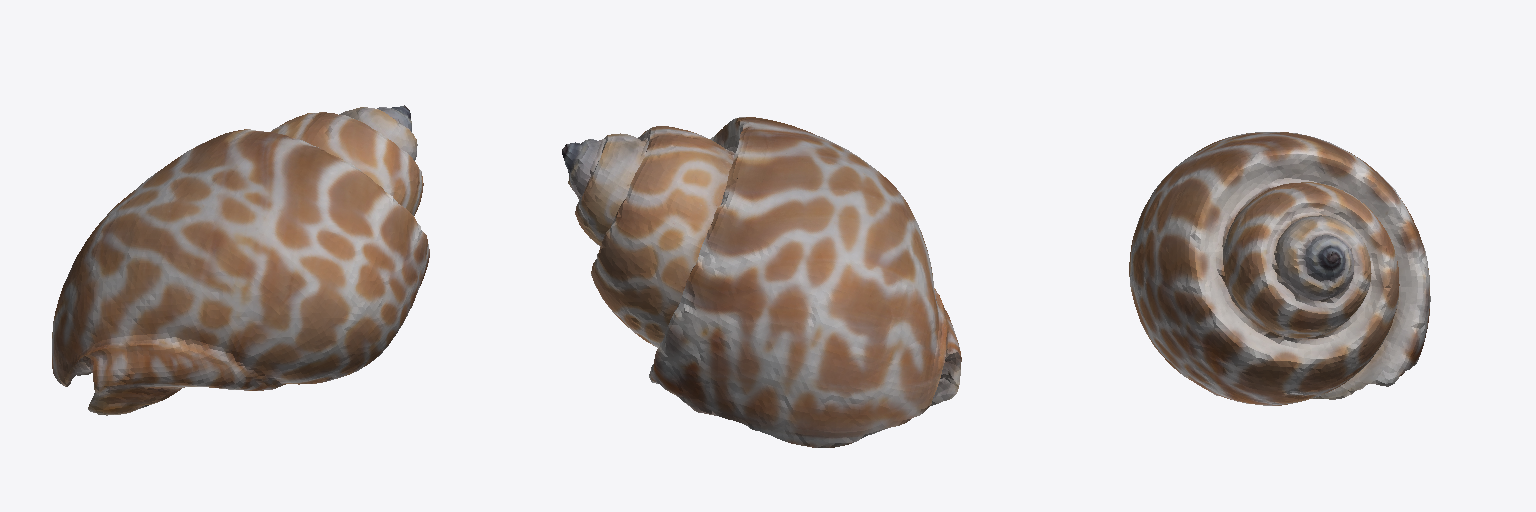
3 views of the same model, side by side, from view 1: azimuth 30°, elevation 25°; view 2: azimuth 150°, elevation 25°; view 3: azimuth 270°, elevation 25° (orthographic).
Visible parts, largest first — view 1: Obj3d66_[number redacted]_22_923; view 2: Obj3d66_[number redacted]_22_923; view 3: Obj3d66_[number redacted]_22_923.
Boxes of the visible parts, x1=… form: Obj3d66_[number redacted]_22_923: x1=52, y1=105, x2=429, y2=415; Obj3d66_[number redacted]_22_923: x1=562, y1=117, x2=961, y2=447; Obj3d66_[number redacted]_22_923: x1=1129, y1=132, x2=1430, y2=405.
Size of the model in its own units: 37.77 by 23.66 by 27.52.
Materials: 1 (1 with a texture image).